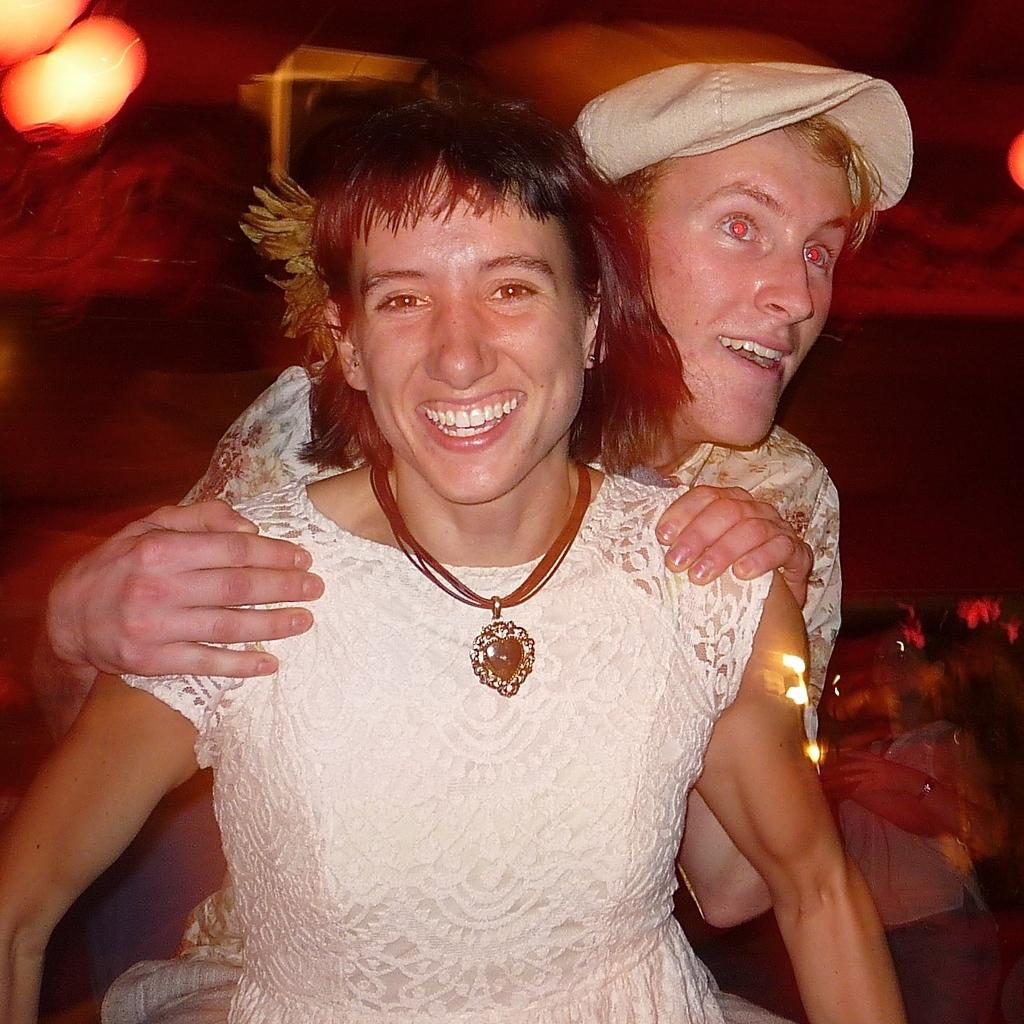Hat: (569, 64, 912, 212)
